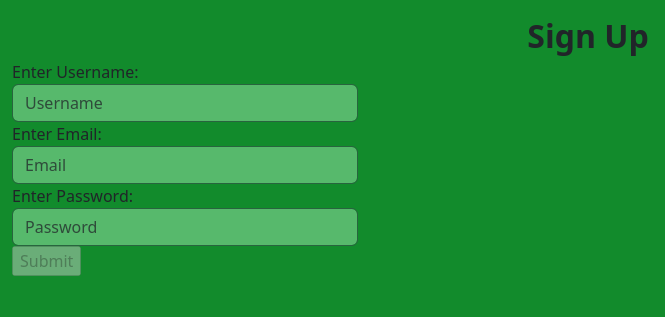
Test: SignUp form tests › email tests › should show invalid email message when email input is dirty and invalid
Type "not.valid" into the field with placeholder "Email" at (185, 165), box x1=12 y1=146 x2=358 y2=184
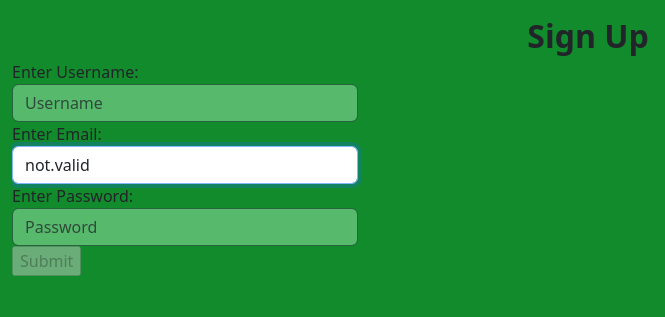
Click the password field with placeholder "Password" at (185, 227), box x1=12 y1=208 x2=358 y2=246
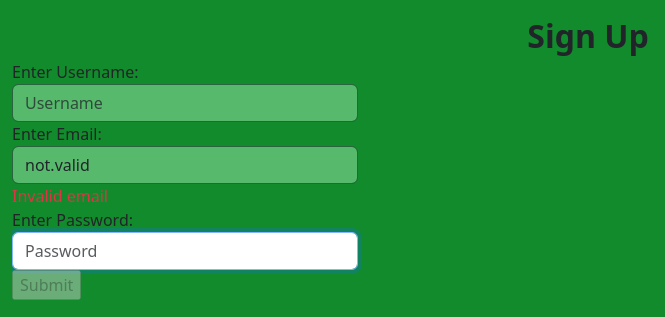
Expected: the text "Invalid email" is shown, x1=12 y1=185 x2=108 y2=207
